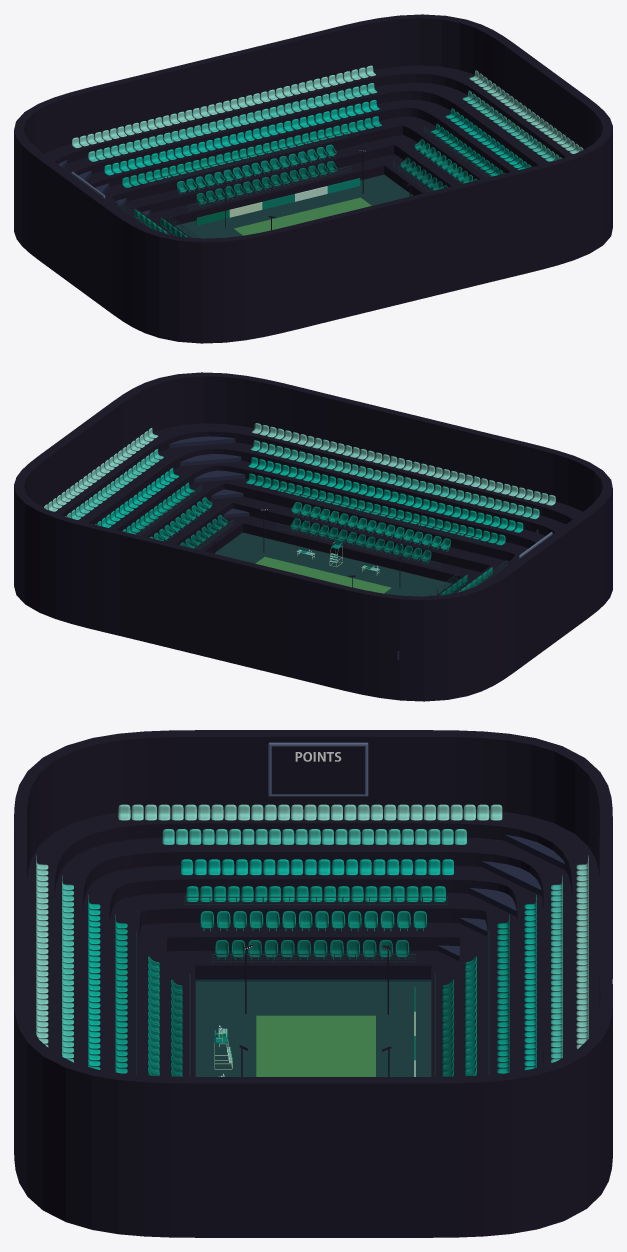
Rendered from estadiocomplejo.fbx.
3 views of the same model, one above another, from view 1: azimuth 30°, elevation 25°; view 2: azimuth 150°, elevation 25°; view 3: azimuth 270°, elevation 25° (orthographic). The views are drawn at different scales.
Visible parts, largest first — view 1: cancha.002; view 2: cancha.002; view 3: cancha.002.
Boxes of the visible parts, x1,y1,x2,y2 form: cancha.002: (14, 14, 612, 343); cancha.002: (14, 372, 612, 701); cancha.002: (14, 730, 612, 1237).
Bounding box in the file's own units: 55704 × 11795 × 39889.
45 materials, 45 textured.
